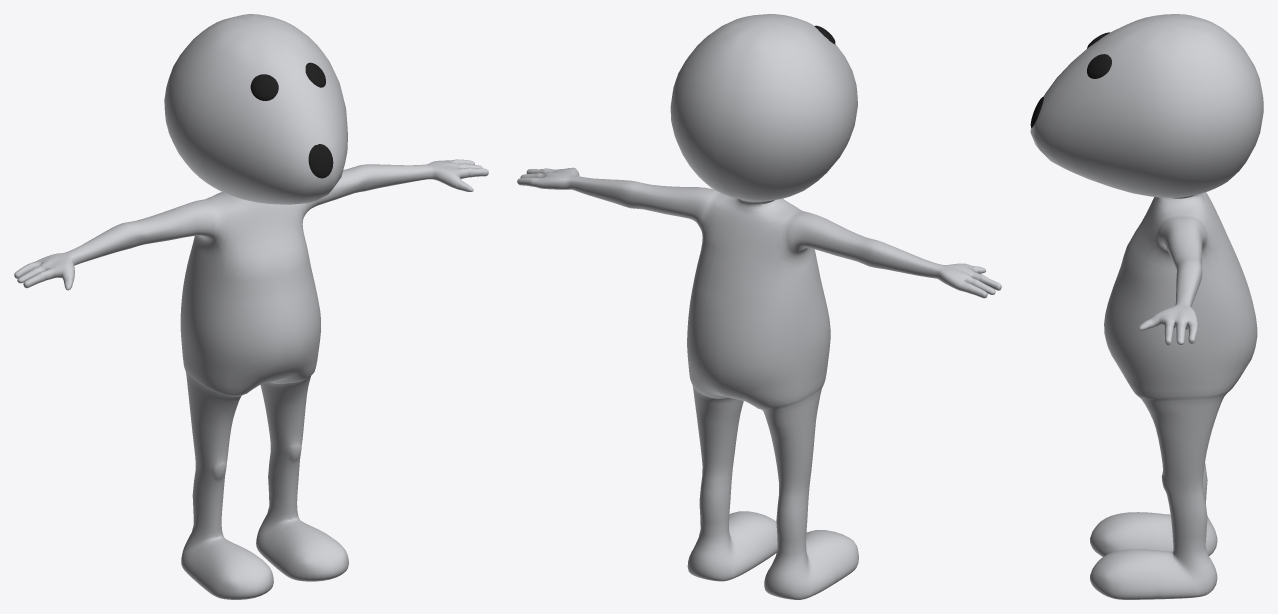
File: zoozoo_vodafone_better_version.glb
3 views of the same model, side by side, from view 1: azimuth 30°, elevation 25°; view 2: azimuth 150°, elevation 25°; view 3: azimuth 270°, elevation 25° (orthographic). The views are drawn at different scales.
Visible parts, largest first — view 1: nodes[2], nodes[0], nodes[1]; view 2: nodes[2]; view 3: nodes[2], nodes[0].
Boxes of the visible parts, x1,y1,x2,y2 form: nodes[2]: [14, 14, 488, 599]; nodes[0]: [250, 62, 325, 100]; nodes[1]: [308, 144, 333, 178]; nodes[2]: [517, 14, 1001, 599]; nodes[2]: [1030, 14, 1263, 599]; nodes[0]: [1087, 32, 1111, 78].
Size of the model in its own units: 0.0146 by 0.0162 by 0.00626.
1 material, 1 textured.
